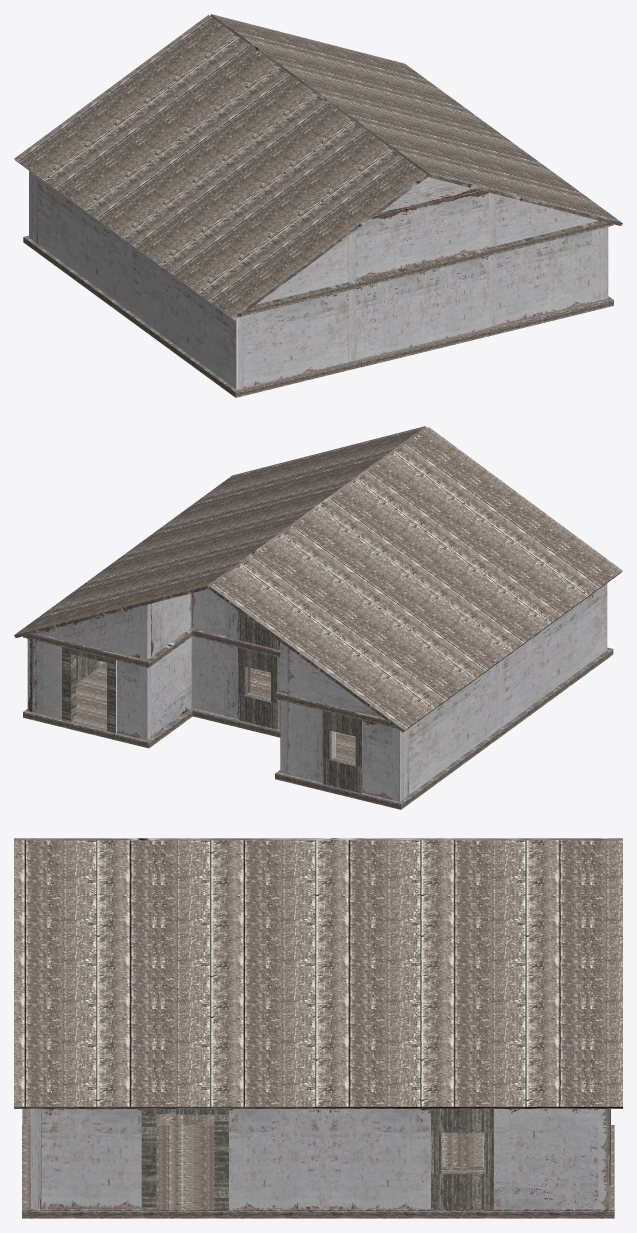
File: HouseFINALVERSION.fbx
3 renders of one model, top to bottom at view 1: azimuth 30°, elevation 25°; view 2: azimuth 150°, elevation 25°; view 3: azimuth 270°, elevation 25°, orthographic. The views are drawn at different scales.
Parts seen in each view (by area): view 1: Cube.021, Cube.020, Cube.016, Cube.008, Cube.007, Cube.034, Cube.001, Cube.033, Cube.015, Cube, Cube.010, Cube.019 (+3 smaller); view 2: Cube.021, Cube.020, Cube.008, Cube.005, Cube.023, Cube.001, Cube.003, Cube.004, Cube, Cube.024, Cube.002, Cube.025 (+7 smaller); view 3: Cube.020, Cube.006, Cube, Cube.002, Cube.015, Cube.013, Cube.035, Cube.021, Cube.010.
Part boxes in pixels (<box>): Cube.021: <box>14,15,428,320</box>; Cube.020: <box>210,14,622,225</box>; Cube.016: <box>356,192,591,359</box>; Cube.008: <box>38,177,243,389</box>; Cube.007: <box>243,230,356,387</box>; Cube.034: <box>356,177,488,279</box>; Cube.001: <box>23,235,361,397</box>; Cube.033: <box>496,194,598,245</box>; Cube.015: <box>592,227,608,302</box>; Cube: <box>485,296,613,336</box>; Cube.010: <box>359,329,487,366</box>; Cube.019: <box>359,248,487,286</box>; Cube.021: <box>209,427,622,732</box>; Cube.020: <box>14,426,426,637</box>; Cube.008: <box>409,583,607,794</box>; Cube.005: <box>117,636,238,740</box>; Cube.023: <box>37,589,238,659</box>; Cube.001: <box>275,647,613,809</box>; Cube.003: <box>278,657,335,782</box>; Cube.004: <box>362,720,408,801</box>; Cube: <box>23,662,250,748</box>; Cube.024: <box>278,640,381,717</box>; Cube.002: <box>27,639,61,719</box>; Cube.025: <box>238,647,278,729</box>; Cube.020: <box>14,840,622,1108</box>; Cube.006: <box>229,1109,430,1209</box>; Cube: <box>22,1125,614,1218</box>; Cube.002: <box>494,1109,608,1208</box>; Cube.015: <box>31,1109,141,1208</box>; Cube.013: <box>431,1109,493,1209</box>; Cube.035: <box>141,1109,228,1210</box>; Cube.021: <box>14,838,622,840</box>; Cube.010: <box>22,1109,214,1124</box>.
Size of the model in its own units: 4340 by 1921 by 4200.
